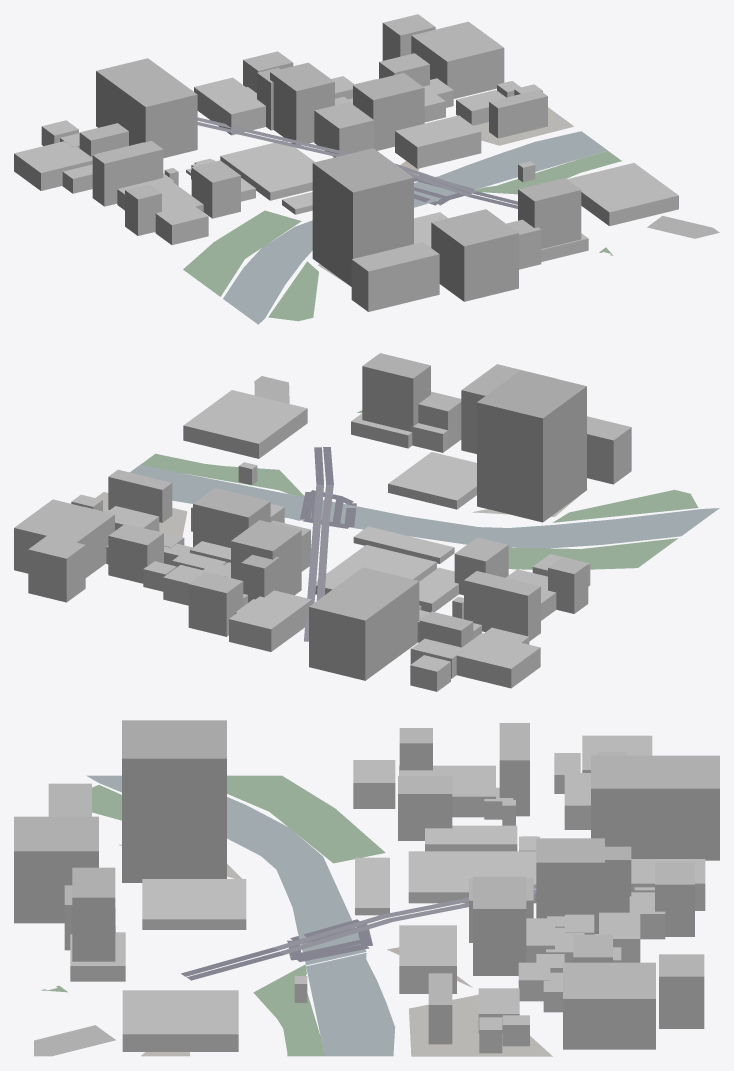
File: 118_98_mid.glb
3 views of the same model, one above another, from view 1: azimuth 30°, elevation 25°; view 2: azimuth 150°, elevation 25°; view 3: azimuth 270°, elevation 25° (orthographic). The views are drawn at different scales.
Bounding box in the file's own units: 530 × 105 × 534.
